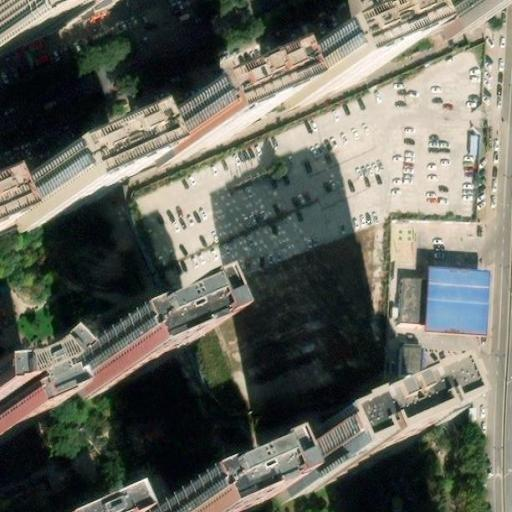building: (268, 413, 400, 500), (0, 152, 104, 230), (59, 324, 160, 399), (136, 89, 242, 160), (267, 35, 371, 105), (424, 266, 494, 332), (437, 0, 483, 33), (400, 276, 427, 324), (401, 344, 418, 376)
